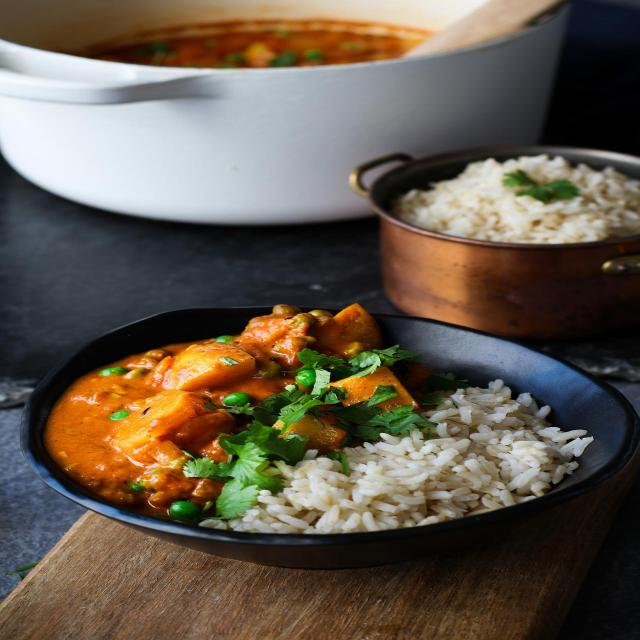Aloo Matar: (50, 296, 394, 510)
